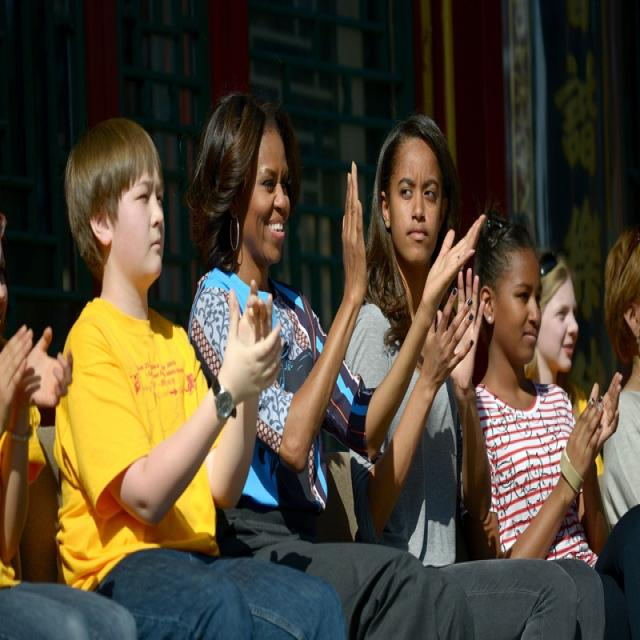body: (183, 86, 486, 640), (50, 104, 362, 639), (335, 104, 612, 639), (453, 201, 639, 639), (0, 206, 137, 640), (522, 245, 604, 478), (599, 226, 640, 534)
